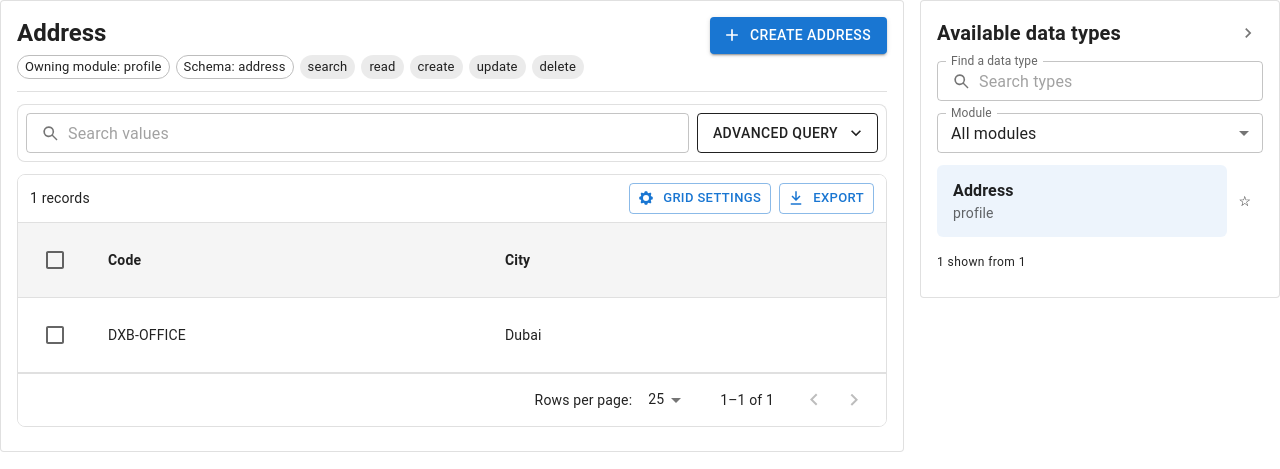
Test: SchemaWorkbenchRenderer › collapses and restores the right-side data type browser
The width and height of the screenshot is (1280, 469).
Expected: the heading "Available data types" is shown, [937,17,1121,49]
Click the button named "Hide data types" at (1248, 33), box [1233,18,1263,48]
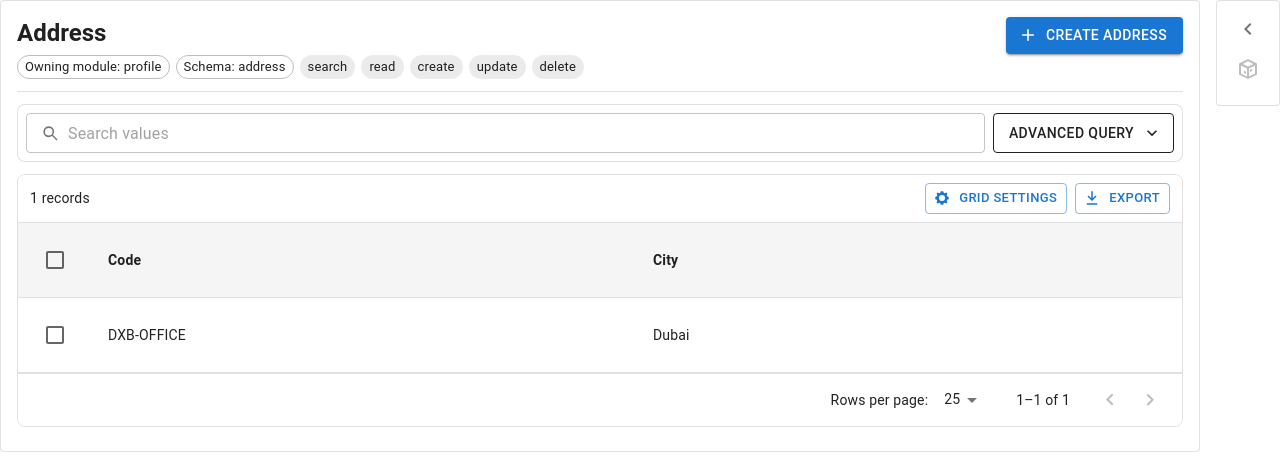
Now the heading "Available data types" is gone
Now the button named "Show data types" is shown
Click the button named "Show data types" at (1248, 29), box [1228,9,1268,49]
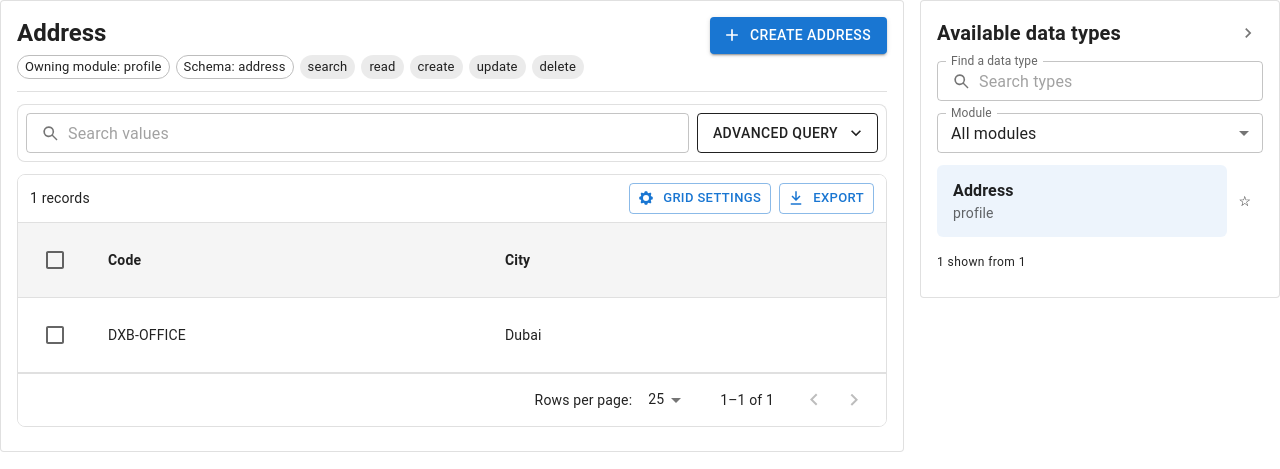
Now the heading "Available data types" is shown, box [937,17,1121,49]
